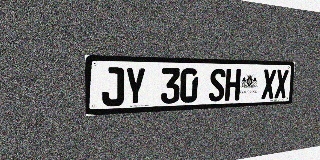0: (180, 68, 198, 103)
3: (161, 68, 180, 104)
H: (224, 69, 241, 101)
J: (102, 67, 124, 107)
S: (208, 68, 226, 102)
X: (261, 69, 276, 99), (274, 69, 289, 98)
Y: (125, 67, 146, 106)
